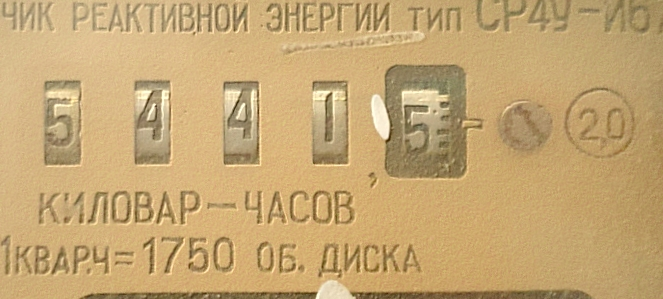1: (315, 88, 341, 147)
4: (220, 80, 259, 147), (132, 83, 169, 145)
5: (39, 93, 80, 151), (398, 97, 435, 161)
screen: (16, 26, 495, 209)
